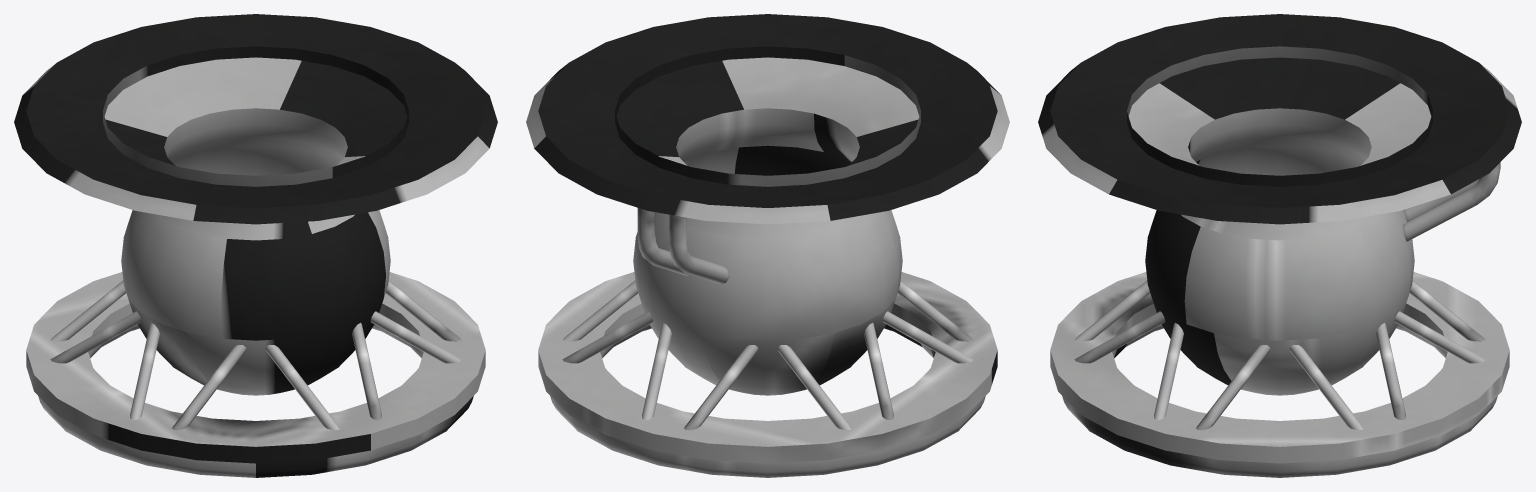
The model's file is 4mv_vl_avionics_s0p5_1_flat.obj.
3 views of the same model, side by side, from view 1: azimuth 30°, elevation 25°; view 2: azimuth 150°, elevation 25°; view 3: azimuth 270°, elevation 25° (orthographic).
Visible parts, largest first — view 1: mesh1; view 2: mesh1; view 3: mesh1.
Boxes of the visible parts, x1=… form: mesh1: x1=14, y1=14, x2=497, y2=477; mesh1: x1=526, y1=14, x2=1009, y2=477; mesh1: x1=1038, y1=14, x2=1521, y2=477.
Bounding box in the file's own units: 0.9875 × 0.625 × 0.9875.
